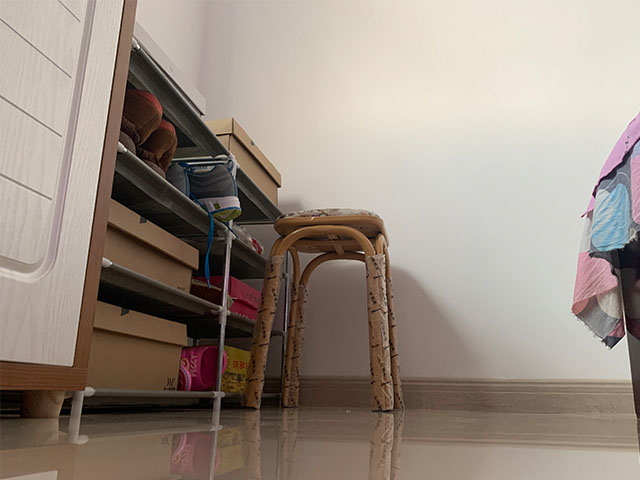stool: (241, 208, 406, 413)
